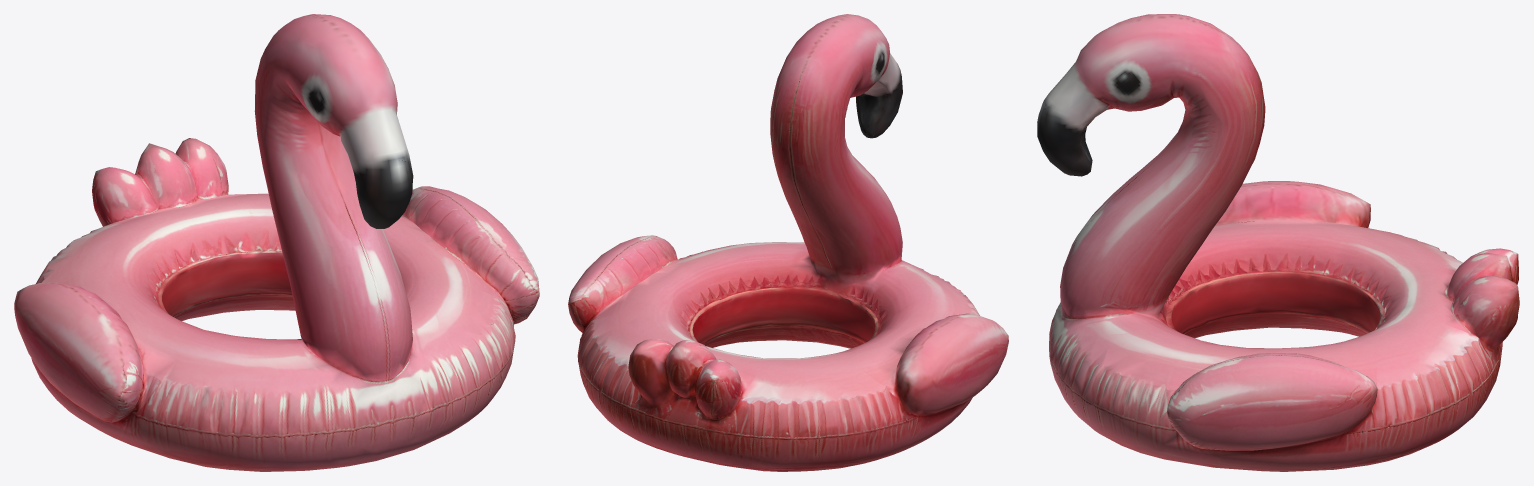
File: prop_flamingo.fbx
The picture shows the model from 3 angles, left to right: view 1: azimuth 30°, elevation 25°; view 2: azimuth 150°, elevation 25°; view 3: azimuth 270°, elevation 25°; orthographic projection. The views are drawn at different scales.
Parts seen in each view (by area): view 1: prop_flamingo; view 2: prop_flamingo; view 3: prop_flamingo.
Boxes of the visible parts, x1=… form: prop_flamingo: x1=14, y1=14, x2=539, y2=471; prop_flamingo: x1=568, y1=14, x2=1008, y2=471; prop_flamingo: x1=1037, y1=14, x2=1519, y2=471.
Bounding box in the file's own units: 1.4 × 1.21 × 1.39.
Materials: 1 (1 with a texture image).
